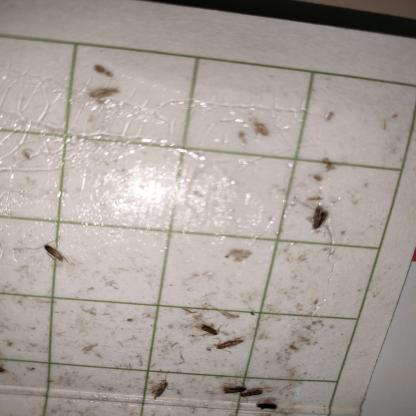prays_oleae: (35, 235, 74, 273), (138, 370, 178, 406), (215, 326, 250, 356), (194, 311, 221, 347), (307, 200, 332, 238), (218, 375, 246, 405), (236, 382, 266, 406), (254, 398, 282, 412)
